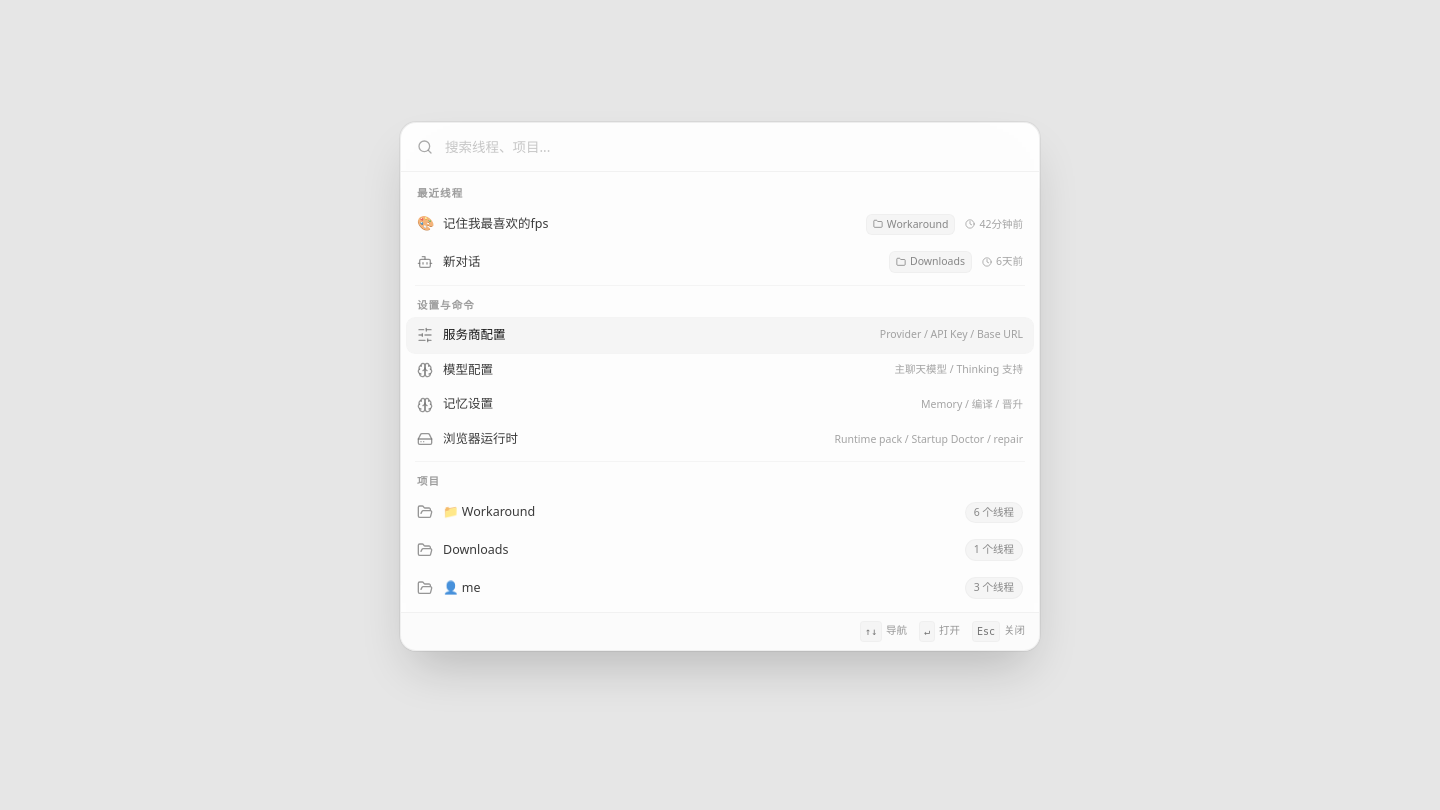
SearchPalette › client-filters recent threads when typing
The width and height of the screenshot is (1440, 810).
Expected: the text "最近线程" is shown, [417,186,463,200]
Type "fps" into the dropdown with placeholder "搜索线程、项目...".
click(734, 147); type("fps")  # box [445,136,1023,157]
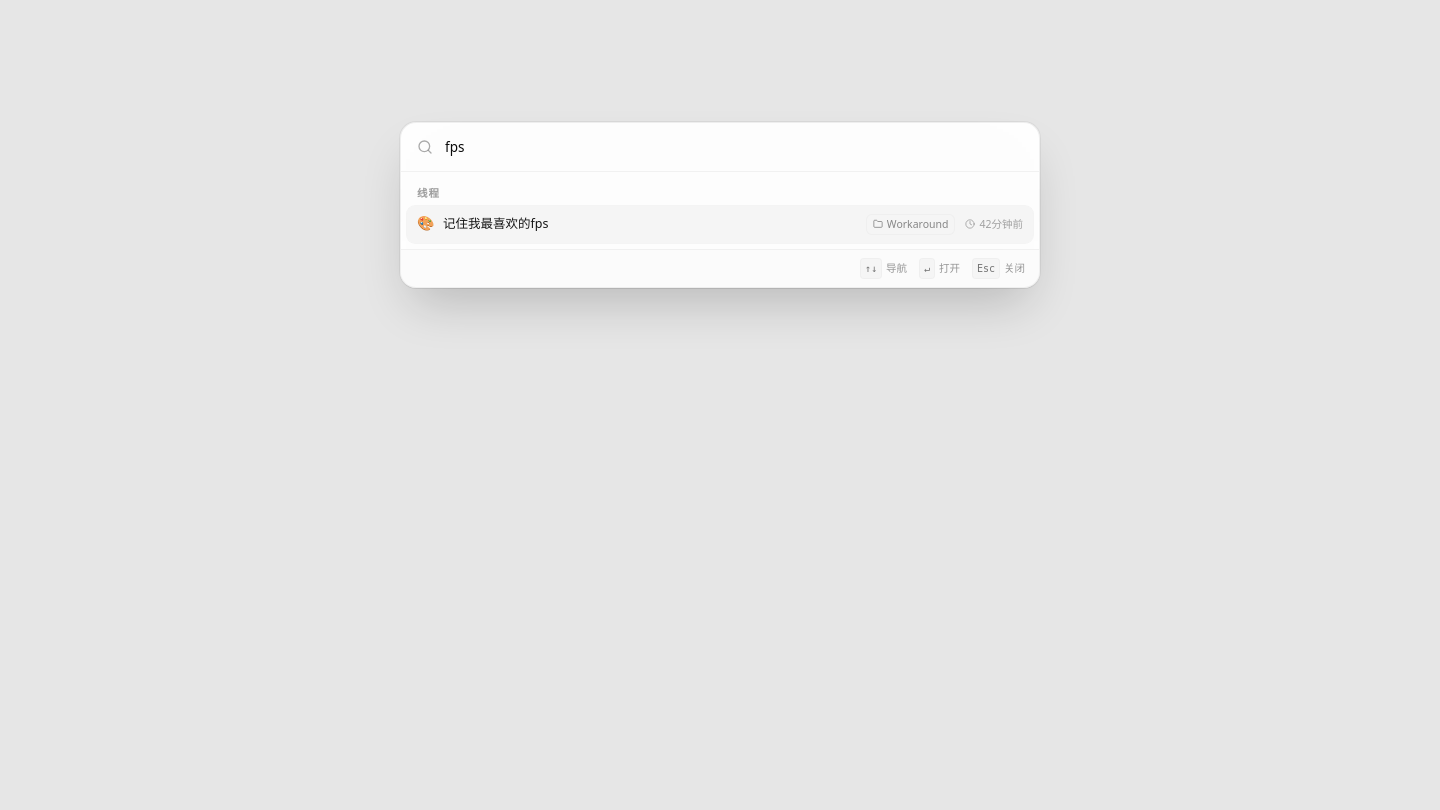
Expected: the text "记住我最喜欢的fps" is shown, [443,215,548,232]
Now the option "新对话" is gone
